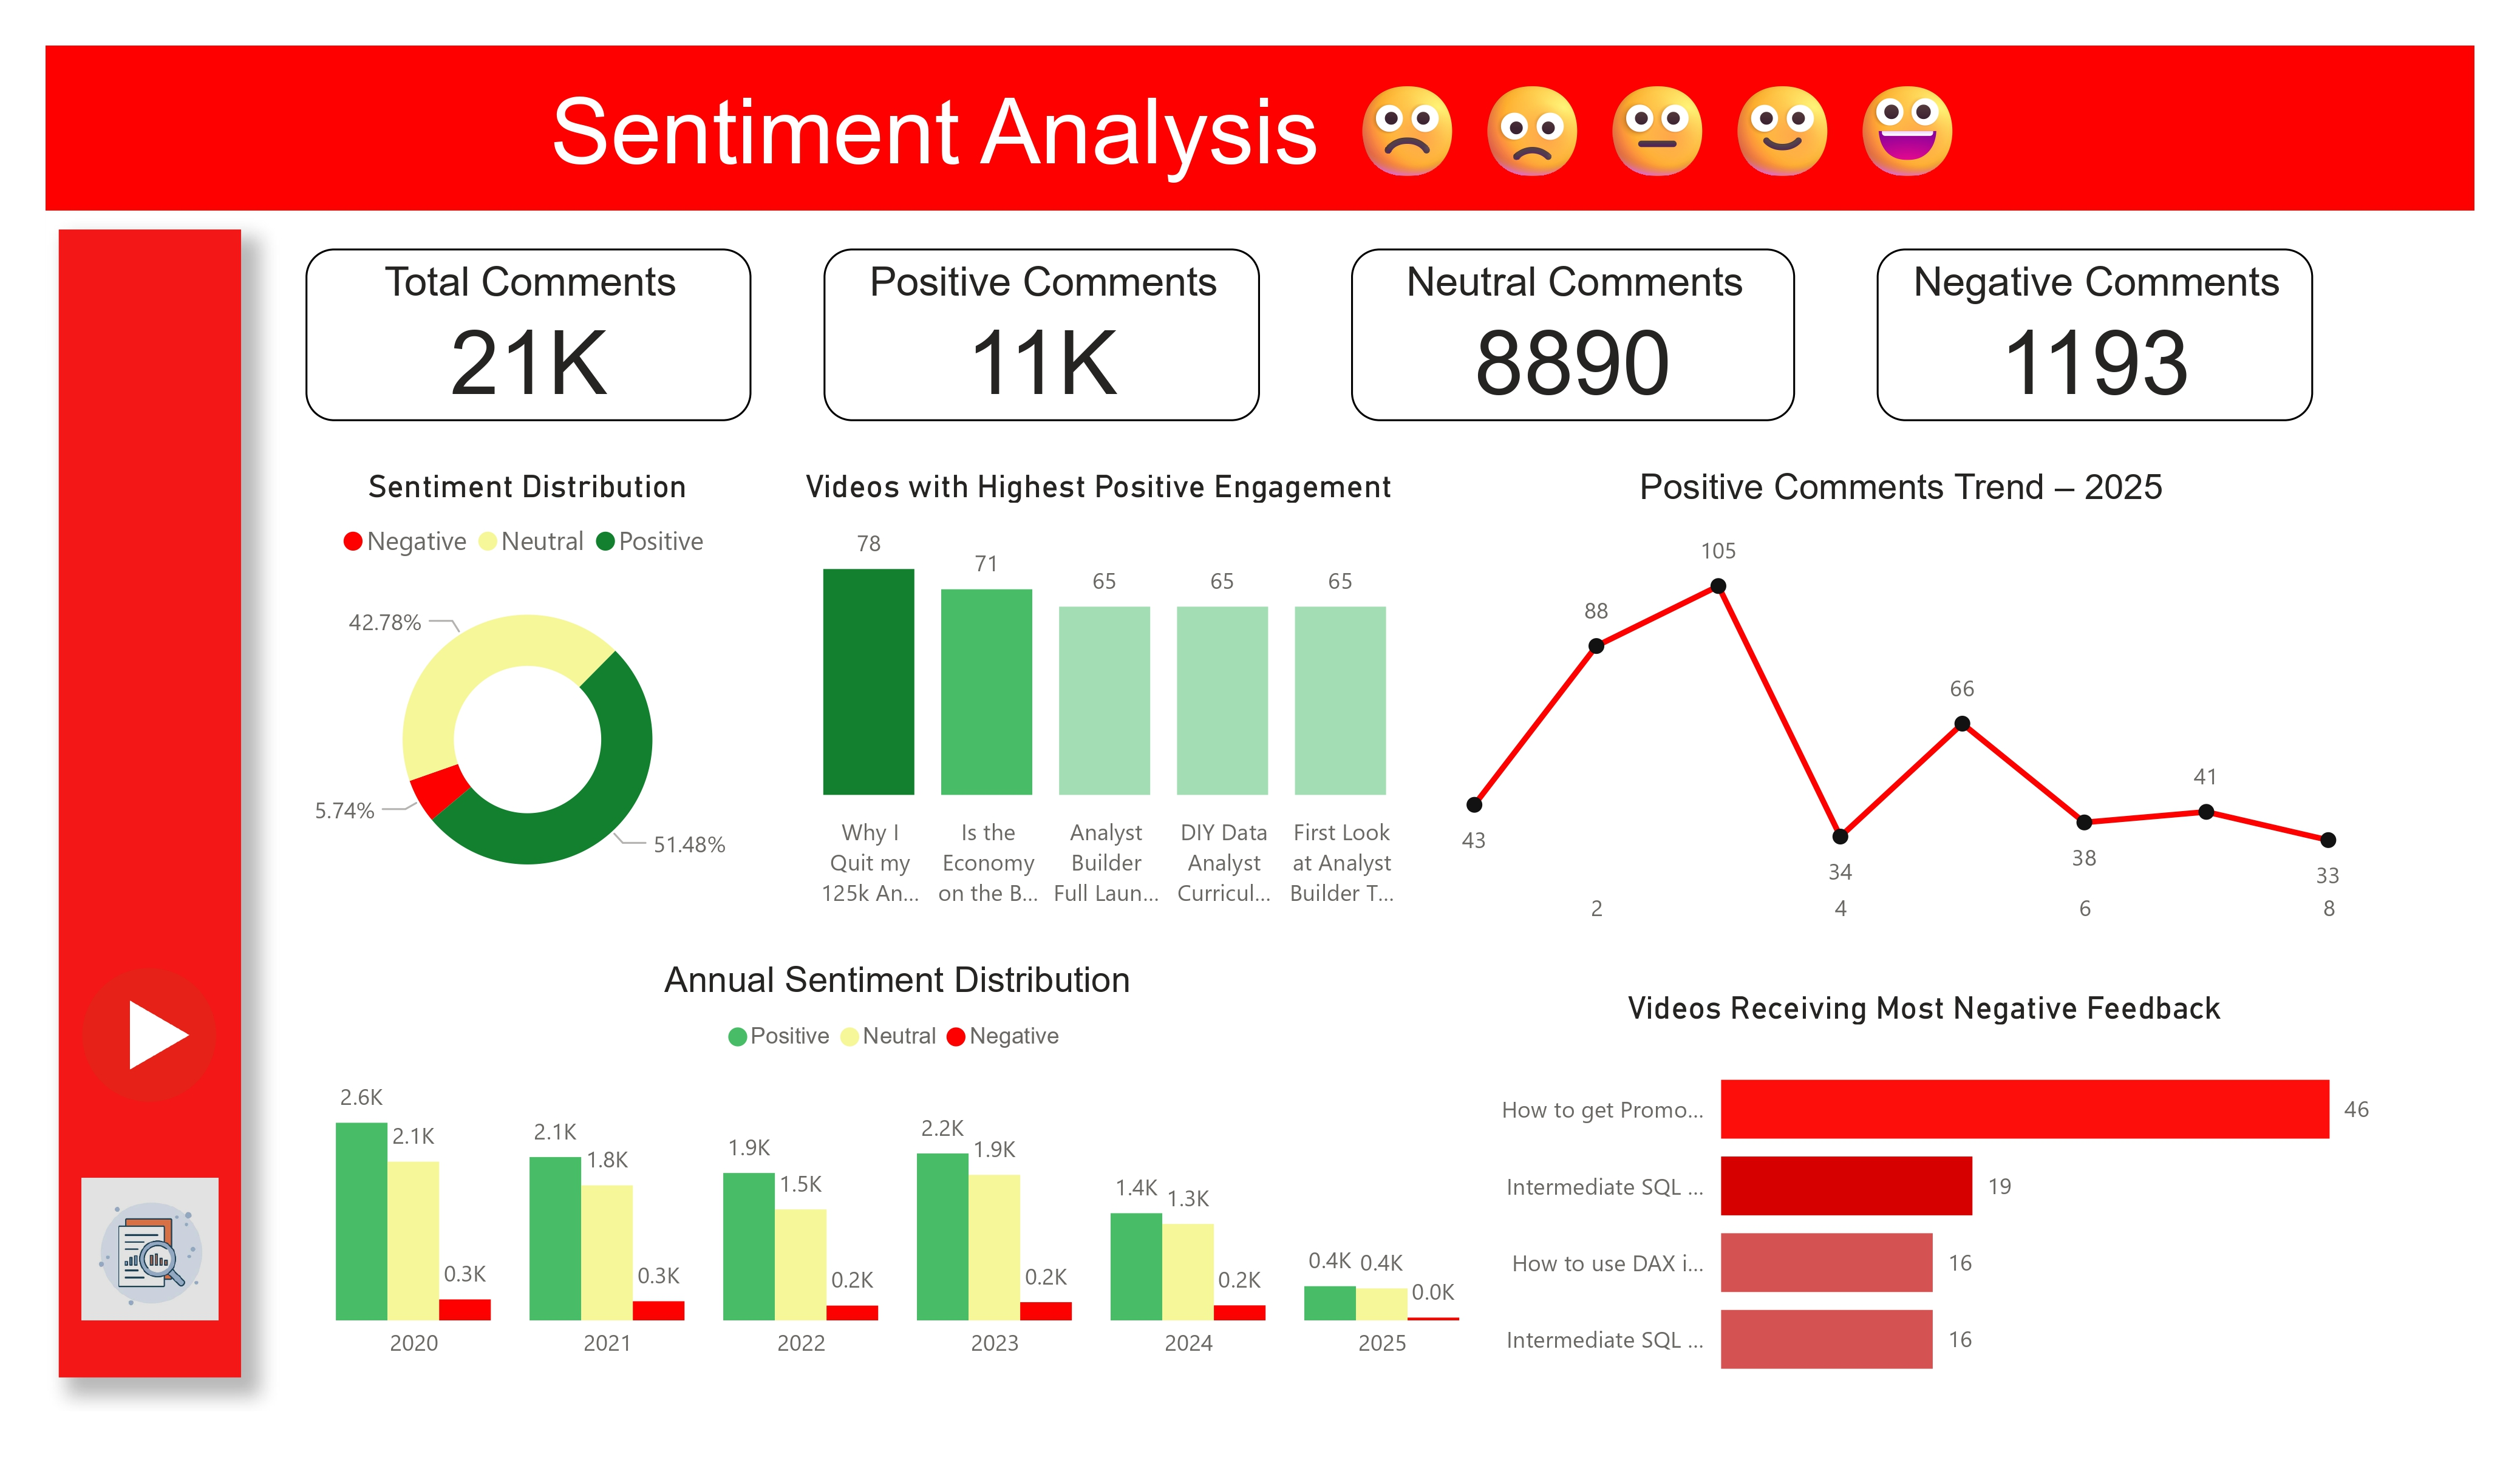

What the dashboard file says about the page in this screenshot:
{"tool":"powerbi","page":{"name":"Sentiment Analysis","canvas":[1280,720],"ordinal":1},"visuals":[{"type":"textbox","box":[0,0,1280,86.7],"z":0},{"type":"card","title":"Total Comments","fields":{"Values":["cmt.TotalComments"]},"box":[136.7,106.7,235,91.7],"z":1000},{"type":"card","title":"Positive Comments","fields":{"Values":["cmt.PositiveComments"]},"box":[410,106.7,230,91.7],"z":2000},{"type":"card","title":"Neutral Comments","fields":{"Values":["cmt.NeutralComments"]},"box":[688.3,106.7,233.3,91.7],"z":3000},{"type":"card","title":"Negative Comments","fields":{"Values":["cmt.NegativeComments"]},"box":[965,106.7,230,91.7],"z":4000},{"type":"donutChart","title":"Sentiment Distribution","fields":{"Y":["cmt.NegativeComments","cmt.NeutralComments","cmt.PositiveComments"]},"box":[125,221.7,258.3,240],"z":5000},{"type":"clusteredColumnChart","title":"Videos with Highest Positive Engagement","fields":{"Category":["vid.Cleaned_Title"],"Y":["cmt.PositiveComments"]},"box":[371.7,221.7,366.7,240],"z":6000},{"type":"clusteredBarChart","title":"Videos Receiving Most Negative Feedback","fields":{"Category":["vid.Cleaned_Title"],"Y":["cmt.NegativeComments"]},"box":[750,496.7,480,223.3],"z":7000},{"type":"shape","box":[6.7,96.7,96.7,605],"z":8000},{"type":"image","box":[6.7,591.7,95,85],"z":9000},{"type":"clusteredColumnChart","title":"Annual Sentiment Distribution","fields":{"Category":["vid.Year"],"Y":["cmt.PositiveComments","cmt.NeutralComments","cmt.NegativeComments"]},"box":[148.3,481.7,601.7,220],"z":10000},{"type":"lineChart","title":"Positive Comments Trend – 2025","fields":{"Category":["vid.Month"],"Y":["cmt.PositiveComments"]},"box":[738.3,221.7,480,251.7],"z":11000},{"type":"image","box":[11.7,475,85,93.3],"z":11001}]}

Visuals, with their boxes on the page's 1280x720 design canvas (x1, y1, x2, y2). These are canvas units, not pixel positions in the 2520x1457 screenshot, which may show the page scaled, cropped or inside an application window:
textbox: crop(0, 0, 1280, 87)
"Total Comments" card: crop(137, 107, 372, 198)
"Positive Comments" card: crop(410, 107, 640, 198)
"Neutral Comments" card: crop(688, 107, 922, 198)
"Negative Comments" card: crop(965, 107, 1195, 198)
"Sentiment Distribution" donutChart: crop(125, 222, 383, 462)
"Videos with Highest Positive Engagement" clusteredColumnChart: crop(372, 222, 738, 462)
"Videos Receiving Most Negative Feedback" clusteredBarChart: crop(750, 497, 1230, 720)
shape: crop(7, 97, 103, 702)
image: crop(7, 592, 102, 677)
"Annual Sentiment Distribution" clusteredColumnChart: crop(148, 482, 750, 702)
"Positive Comments Trend – 2025" lineChart: crop(738, 222, 1218, 473)
image: crop(12, 475, 97, 568)
